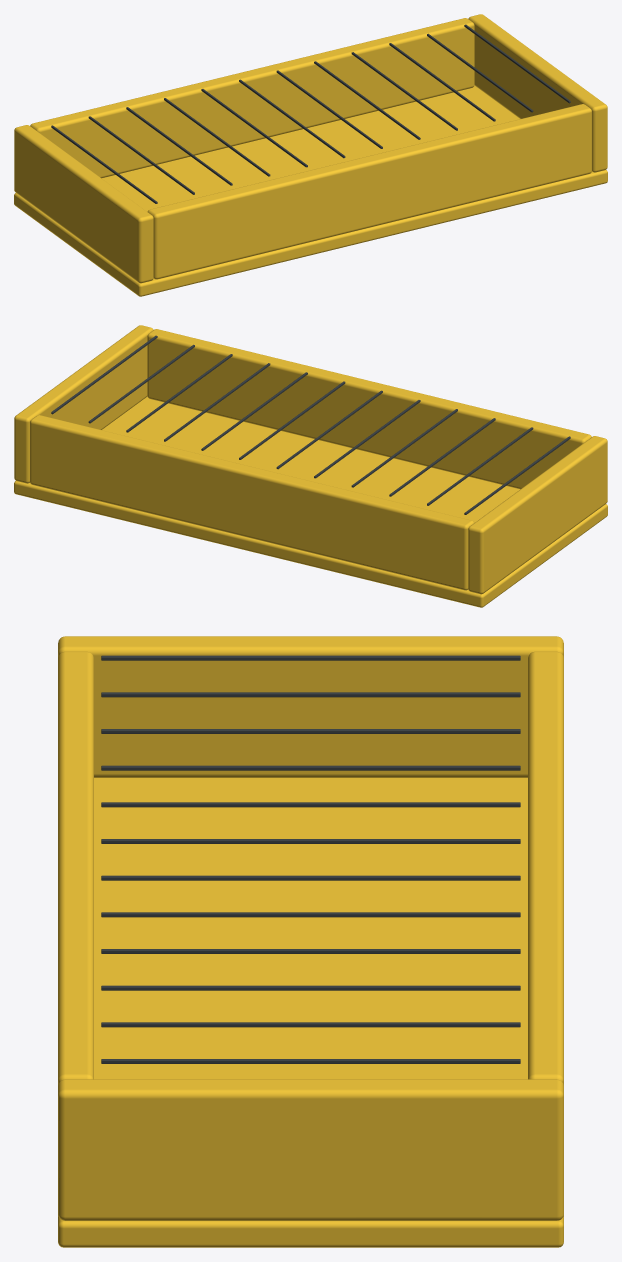
Rendered from recycling-centre-and-material-sorting-belt-return-guar-6764efed__31111.glb.
3 views of the same model, one above another, from view 1: azimuth 30°, elevation 25°; view 2: azimuth 150°, elevation 25°; view 3: azimuth 270°, elevation 25° (orthographic). The views are drawn at different scales.
Parts seen in each view (by area): view 1: belt-return-guard; view 2: belt-return-guard; view 3: belt-return-guard.
Part boxes in pixels (x1,y1,x2,y2): belt-return-guard: (14, 14, 607, 296); belt-return-guard: (14, 325, 607, 607); belt-return-guard: (58, 636, 563, 1247).
Size of the model in its own units: 1.5 by 0.248 by 0.6999.
